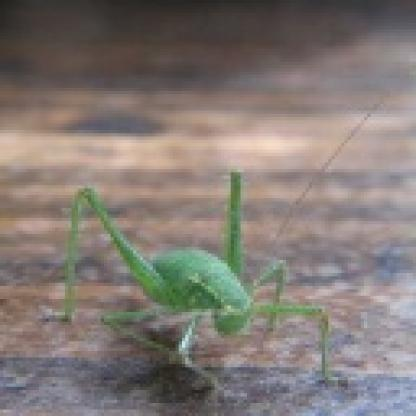grasshopper: (69, 164, 330, 386)
